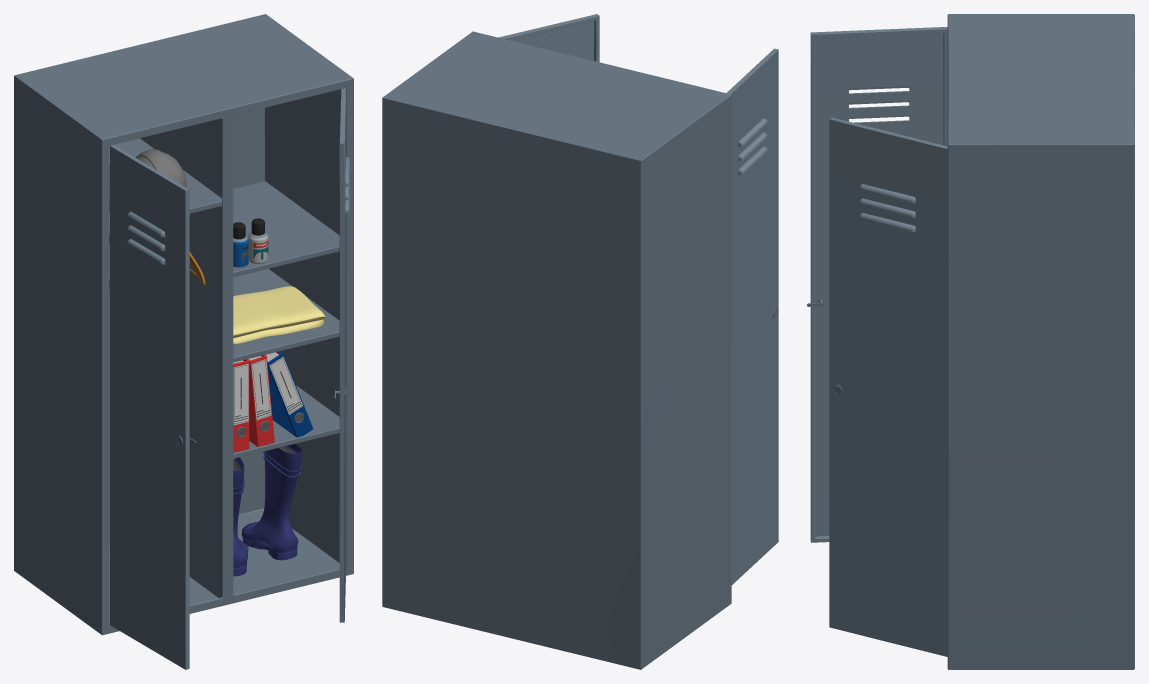
The model's file is SM_Locker_OpenFixed_Pop_V01.fbx.
The picture shows the model from 3 angles, left to right: view 1: azimuth 30°, elevation 25°; view 2: azimuth 150°, elevation 25°; view 3: azimuth 270°, elevation 25°; orthographic projection. The views are drawn at different scales.
Parts seen in each view (by area): view 1: SM_Locker_OpenFixed_Pop_V01; view 2: SM_Locker_OpenFixed_Pop_V01; view 3: SM_Locker_OpenFixed_Pop_V01.
Part boxes in pixels (x1,y1,x2,y2): SM_Locker_OpenFixed_Pop_V01: [14, 14, 353, 669]; SM_Locker_OpenFixed_Pop_V01: [382, 14, 778, 669]; SM_Locker_OpenFixed_Pop_V01: [807, 14, 1134, 669].
Bounding box in the file's own units: 115 × 215 × 122.
